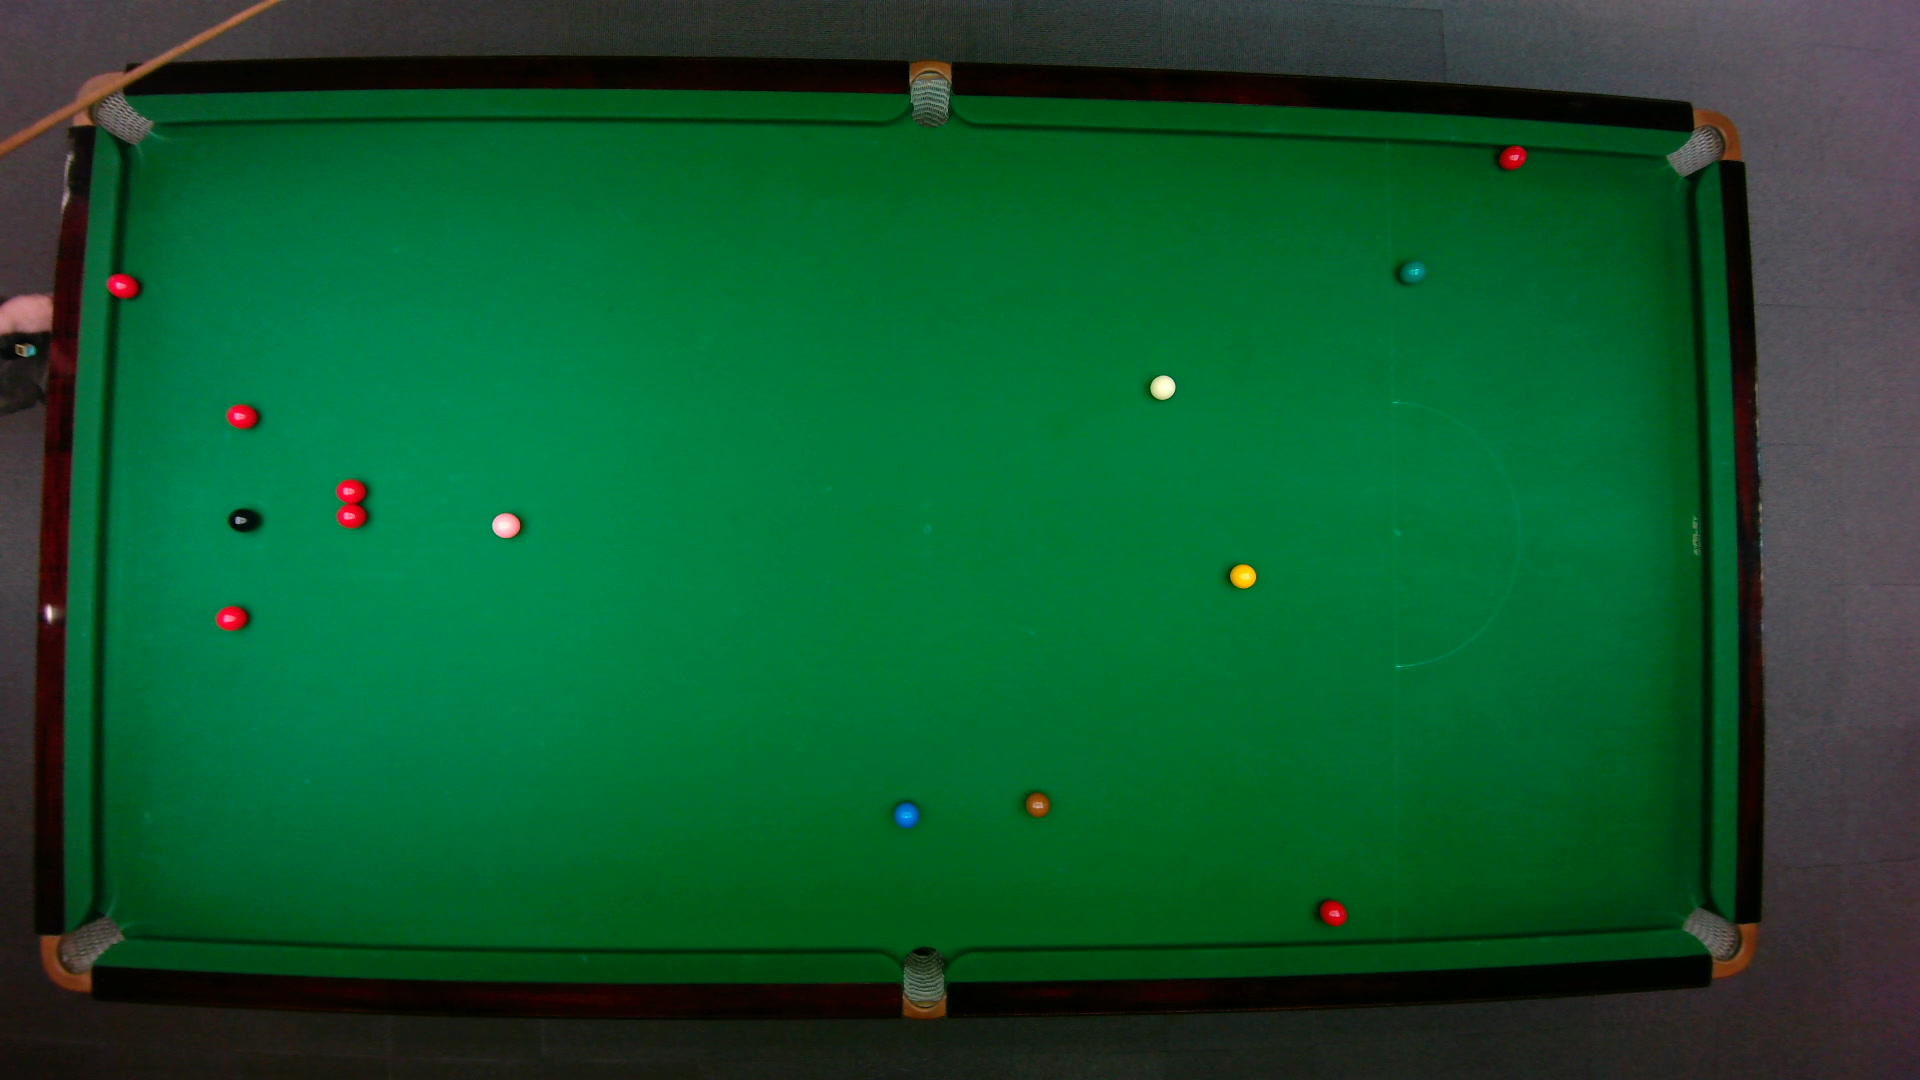bag: (37, 914, 127, 993), (70, 70, 156, 146), (1679, 905, 1756, 980), (1664, 108, 1742, 179), (901, 945, 945, 1021), (909, 59, 951, 129)
black: (227, 506, 260, 534)
blue: (891, 800, 920, 829)
brown: (1025, 791, 1051, 819)
green: (1396, 260, 1427, 285)
pink: (491, 512, 522, 541)
red: (104, 272, 141, 301), (214, 604, 249, 632), (334, 477, 369, 504), (1317, 899, 1349, 928), (224, 404, 258, 430), (334, 504, 369, 529), (1497, 144, 1528, 171)
white: (1149, 375, 1178, 401)
yellow: (1228, 562, 1258, 589)
zone: (1390, 400, 1520, 669)
